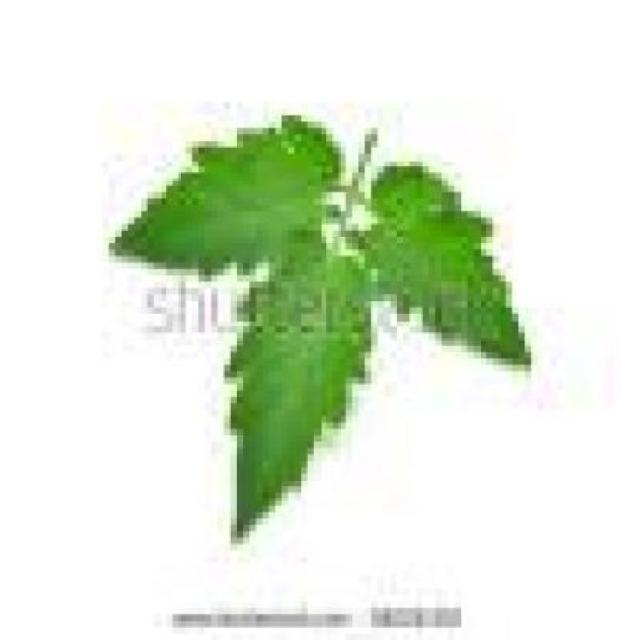Tomato leaf bacterial spot: (217, 211, 397, 563), (359, 101, 563, 397), (103, 83, 359, 308)
